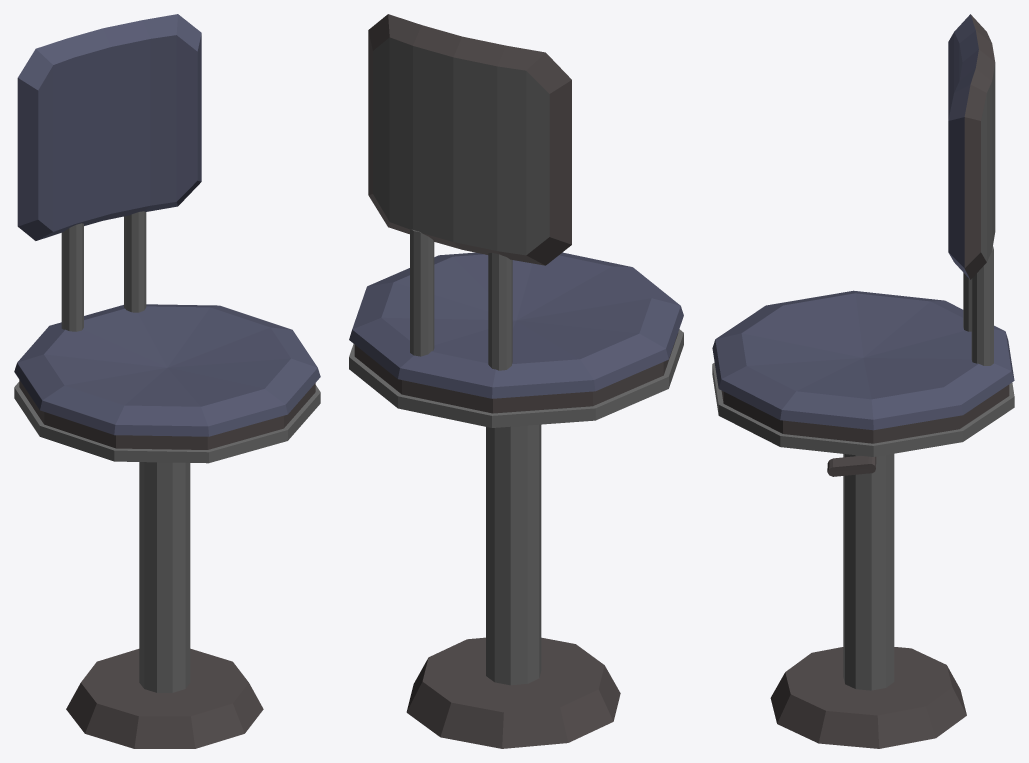
Rendered from Silla CIrcular.fbx.
The picture shows the model from 3 angles, left to right: view 1: azimuth 30°, elevation 25°; view 2: azimuth 150°, elevation 25°; view 3: azimuth 270°, elevation 25°; orthographic projection. The views are drawn at different scales.
Parts seen in each view (by area): view 1: asiento, Respaldar, Base, S_Apoyo_2, S_Apoyo_1; view 2: asiento, Respaldar, Base, S_Apoyo_1, S_Apoyo_2; view 3: asiento, Base, Respaldar, S_Apoyo_1, S_Altura.
Part boxes in pixels (x1=…): asiento: x1=14, y1=304, x2=320, y2=463; Respaldar: x1=17, y1=14, x2=201, y2=240; Base: x1=66, y1=462, x2=263, y2=748; S_Apoyo_2: x1=61, y1=223, x2=83, y2=331; S_Apoyo_1: x1=124, y1=211, x2=146, y2=312; asiento: x1=349, y1=252, x2=683, y2=427; Respaldar: x1=368, y1=14, x2=571, y2=265; Base: x1=406, y1=424, x2=620, y2=748; S_Apoyo_1: x1=410, y1=229, x2=434, y2=356; S_Apoyo_2: x1=488, y1=252, x2=512, y2=370; asiento: x1=712, y1=290, x2=1014, y2=456; Base: x1=770, y1=453, x2=966, y2=748; Respaldar: x1=948, y1=14, x2=995, y2=279; S_Apoyo_1: x1=971, y1=246, x2=993, y2=365; S_Altura: x1=827, y1=456, x2=876, y2=476.
Bounding box in the file's own units: 0.8329 × 1.93 × 0.8088.
